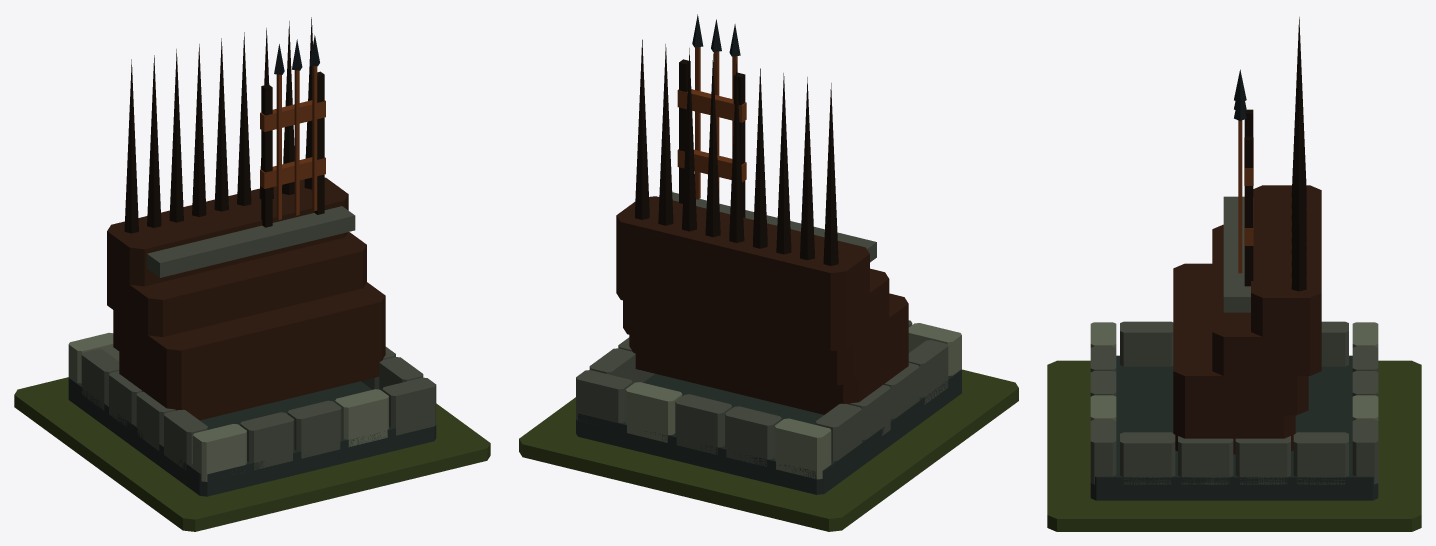
File: rampart_t4.glb
3 renders of one model, left to right at view 1: azimuth 30°, elevation 25°; view 2: azimuth 150°, elevation 25°; view 3: azimuth 270°, elevation 25°, orthographic. The views are drawn at different scales.
Visible parts, largest first — view 1: MMR | rampart | T04 Architecture.001, MMR | rampart | Tier 04 Ground.001; view 2: MMR | rampart | T04 Architecture.001, MMR | rampart | Tier 04 Ground.001; view 3: MMR | rampart | T04 Architecture.001, MMR | rampart | Tier 04 Ground.001.
Boxes of the visible parts, left/top/right/bottom form: MMR | rampart | T04 Architecture.001: left=68, top=17, right=436, bottom=496; MMR | rampart | Tier 04 Ground.001: left=14, top=377, right=490, bottom=531; MMR | rampart | T04 Architecture.001: left=576, top=14, right=961, bottom=494; MMR | rampart | Tier 04 Ground.001: left=519, top=369, right=1018, bottom=531; MMR | rampart | T04 Architecture.001: left=1090, top=17, right=1378, bottom=500; MMR | rampart | Tier 04 Ground.001: left=1047, top=360, right=1421, bottom=531.
Size of the model in its own units: 1.3 by 1.53 by 1.3.
1 material, 1 textured.
